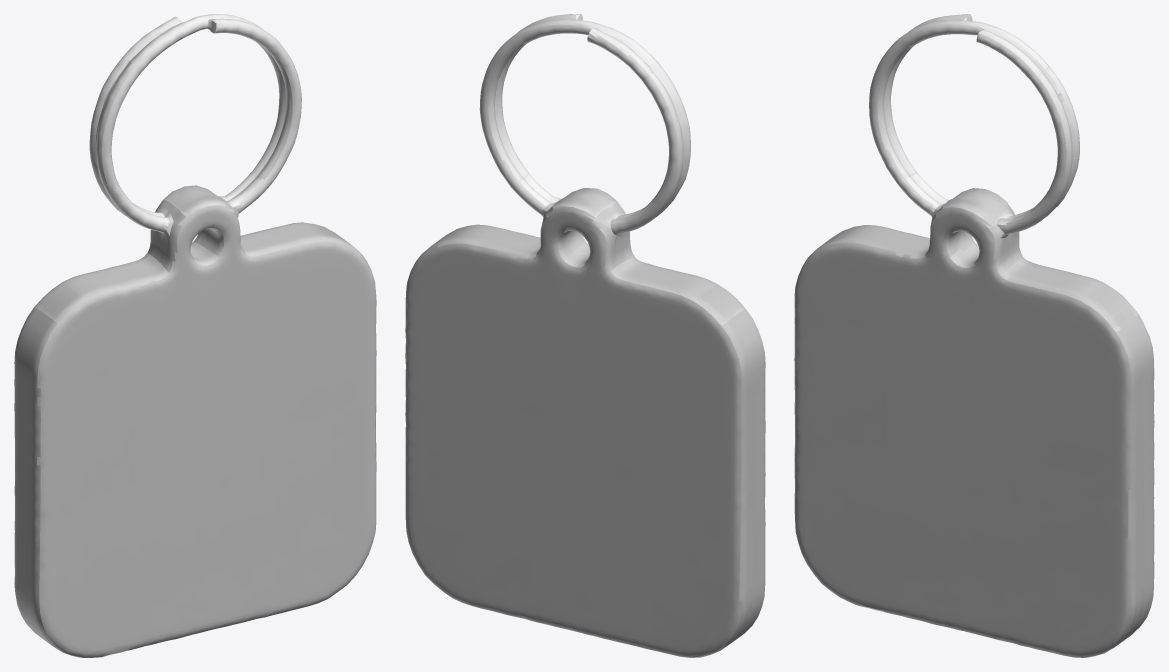
The model's file is keychain.glb.
3 renders of one model, left to right at view 1: azimuth 30°, elevation 25°; view 2: azimuth 150°, elevation 25°; view 3: azimuth 330°, elevation 25°, orthographic.
Bounding box in the file's own units: 1.12 × 1.9 × 0.1522.
Materials: 1 (1 with a texture image).
